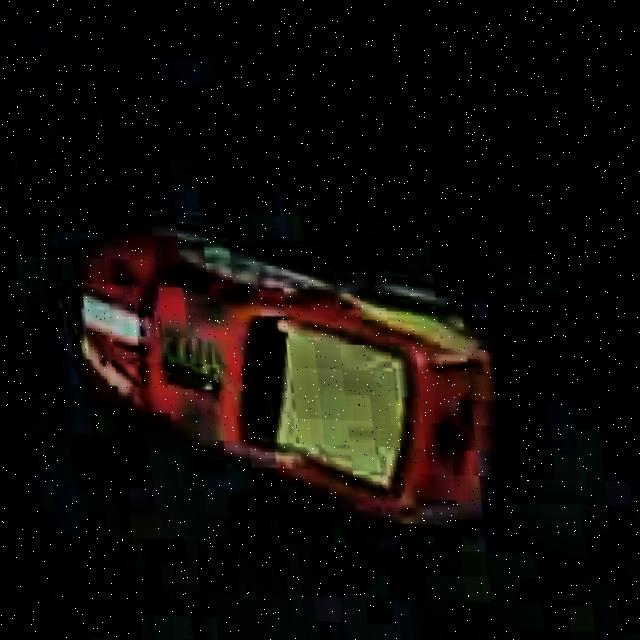car: (60, 209, 519, 552)
